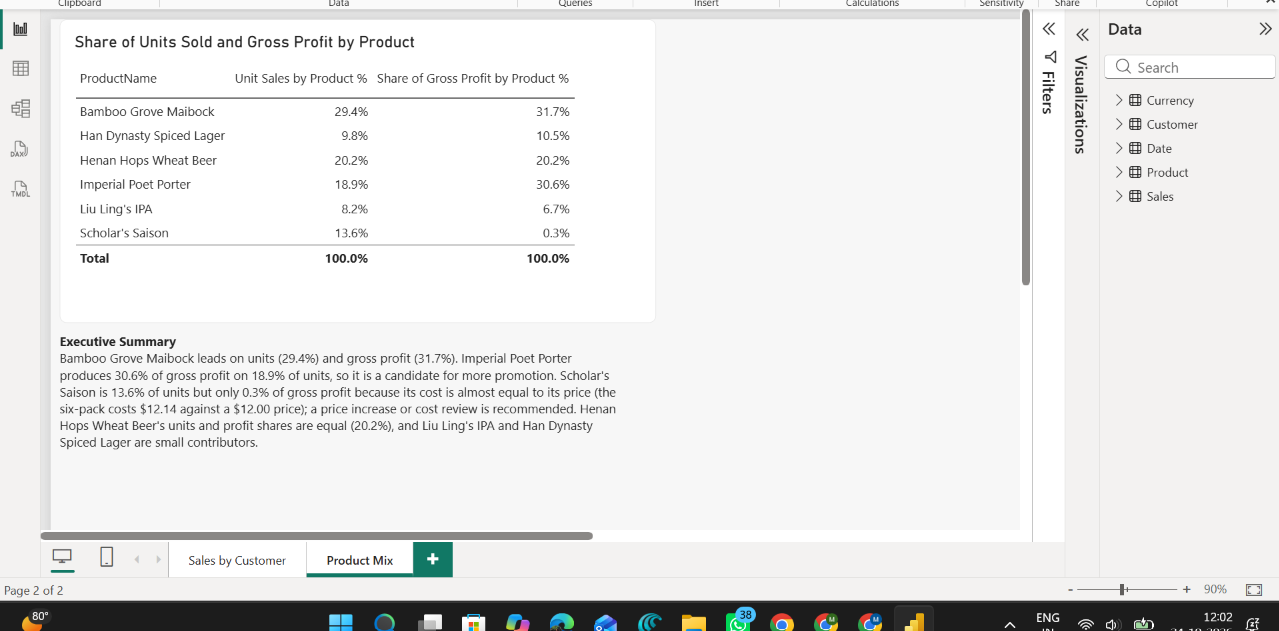

The dashboard page shown, as its layout file describes it:
{"tool":"powerbi","page":{"name":"Product Mix","canvas":[1920,1080],"ordinal":1},"visuals":[{"type":"tableEx","title":"Share of Units Sold and Gross Profit by Product","fields":{"Values":["Product.ProductName","Sales.Unit Sales by Product %","Sales.Share of Gross Profit by Product %"]},"box":[10,0,662.5,337.5],"z":0},{"type":"textbox","box":[10,347.5,627.5,155],"z":1}]}

Visuals, with their boxes on the page's 1920x1080 design canvas (x1, y1, x2, y2). These are canvas units, not pixel positions in the 1279x631 screenshot, which may show the page scaled, cropped or inside an application window:
"Share of Units Sold and Gross Profit by Product" tableEx: region(10, 0, 672, 338)
textbox: region(10, 348, 638, 502)
